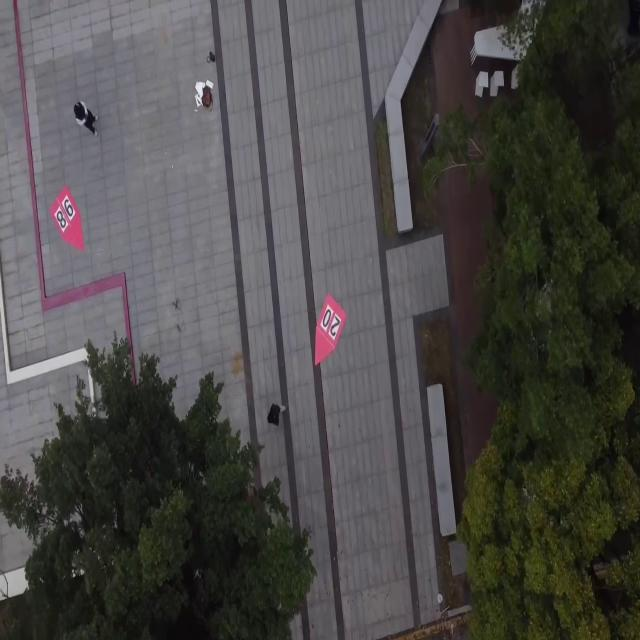-sign-: (313, 293, 347, 367), (49, 185, 83, 253)
